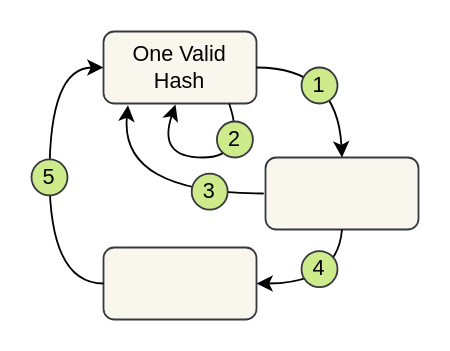
Image size: 450x351. Some labels were removed from this diagram. The shapes that lost their labels are listed below. From the top down, each one's centre as x and y in pixels, then its label:
[341,193]: Two Valid Hashes
[179,283]: No Valid Hashes
